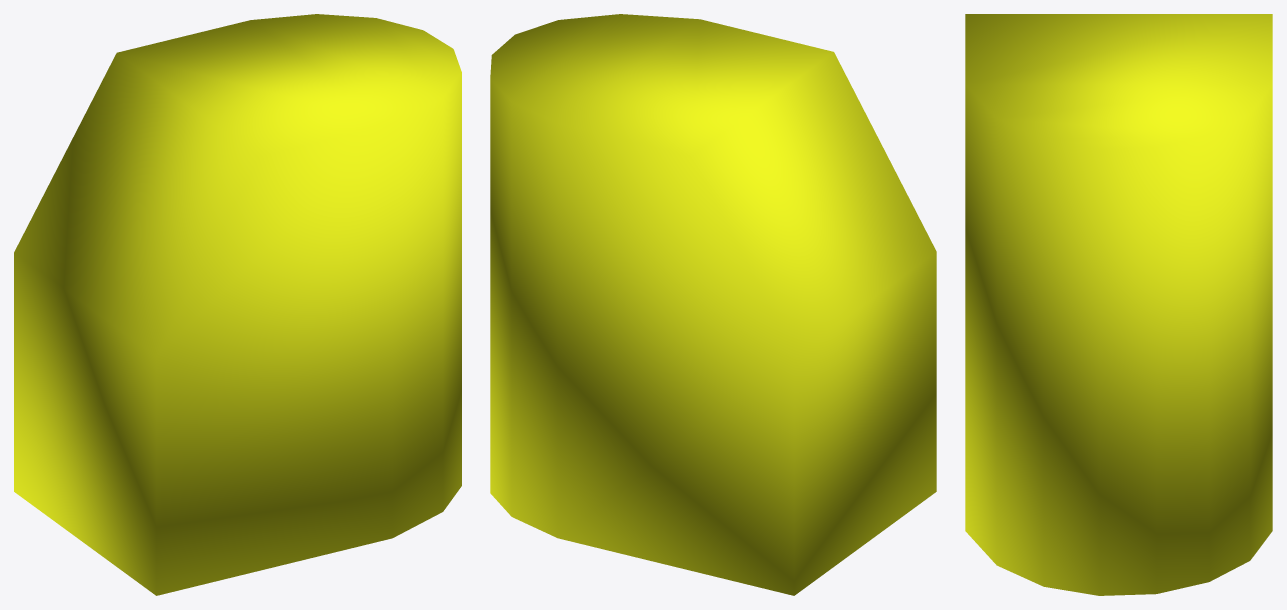
Rendered from membre1.FBX.
3 renders of one model, left to right at view 1: azimuth 30°, elevation 25°; view 2: azimuth 150°, elevation 25°; view 3: azimuth 270°, elevation 25°, orthographic. The views are drawn at different scales.
Parts seen in each view (by area): view 1: membre1; view 2: membre1; view 3: membre1.
Part boxes in pixels (x1,y1,x2,y2): membre1: (14, 14, 461, 595); membre1: (490, 14, 936, 595); membre1: (965, 14, 1272, 595).
Size of the model in its own units: 246 by 272 by 169.
